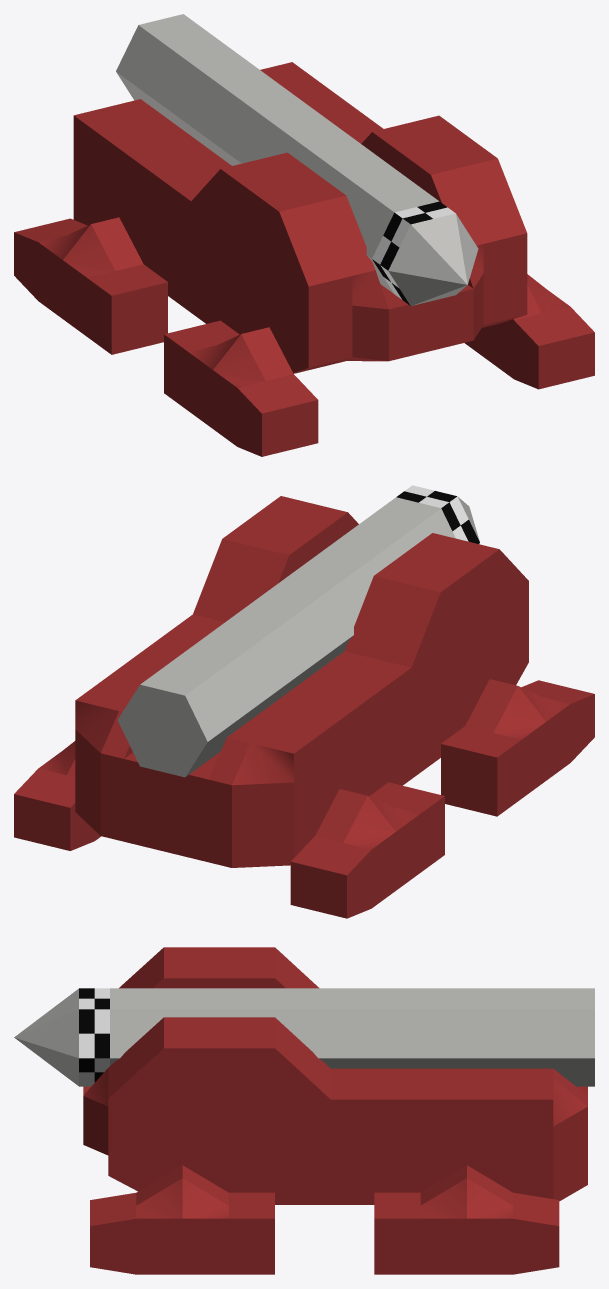
File: enemyBomb01.fbx
The picture shows the model from 3 angles, top to bottom: view 1: azimuth 30°, elevation 25°; view 2: azimuth 150°, elevation 25°; view 3: azimuth 270°, elevation 25°; orthographic projection. The views are drawn at different scales.
Visible parts, largest first — view 1: body, tracks, bomb; view 2: body, tracks, bomb; view 3: body, bomb, tracks.
Boxes of the visible parts, left/top/right/bottom form: body: left=73, top=62, right=527, bottom=373; tracks: left=14, top=217, right=594, bottom=456; bomb: left=116, top=14, right=478, bottom=305; body: left=75, top=496, right=528, bottom=867; tracks: left=14, top=679, right=594, bottom=918; bomb: left=117, top=485, right=479, bottom=777; body: left=83, top=947, right=587, bottom=1204; bomb: left=14, top=988, right=594, bottom=1086; tracks: left=90, top=1165, right=559, bottom=1274.
Size of the model in its own units: 103 by 62.45 by 165.
